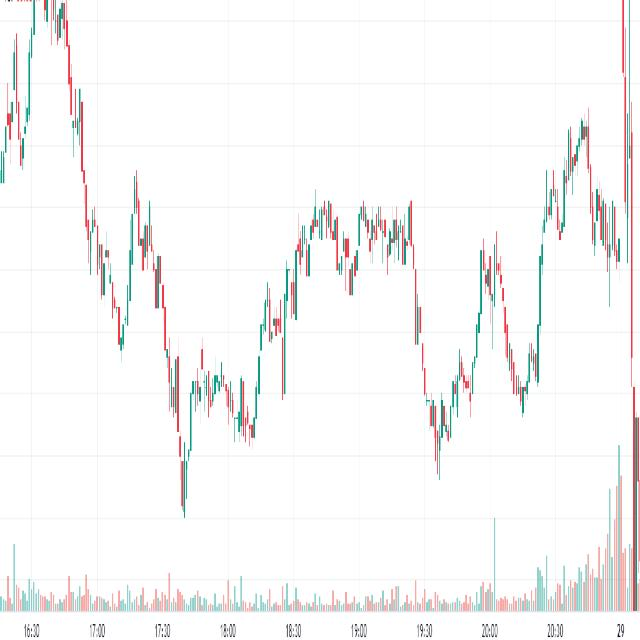rectangle: (352, 189, 420, 276)
